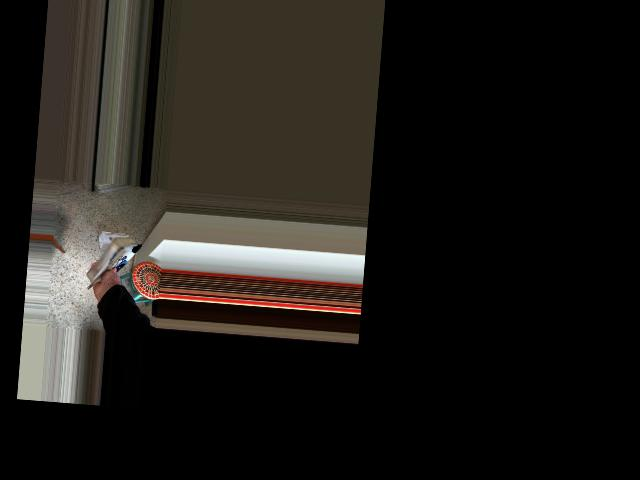cheese: (78, 224, 151, 303)
